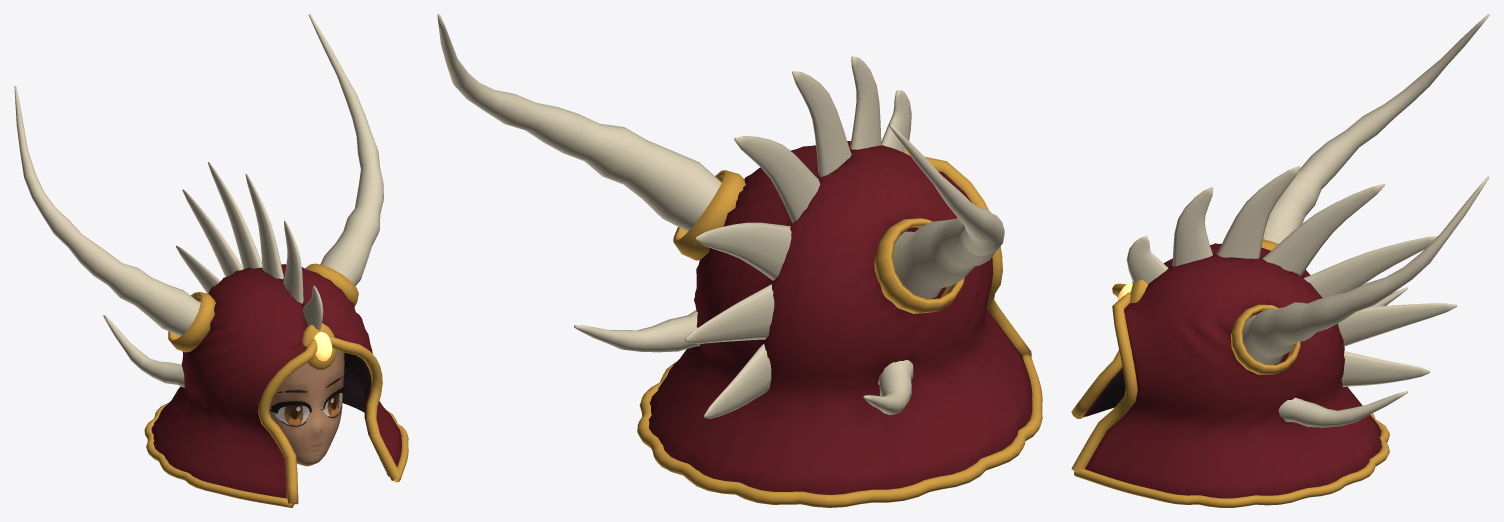
File: h_dragon_f.glb
3 renders of one model, left to right at view 1: azimuth 30°, elevation 25°; view 2: azimuth 150°, elevation 25°; view 3: azimuth 270°, elevation 25°, orthographic. The views are drawn at different scales.
Parts seen in each view (by area): view 1: DragonHelm, HeadMesh; view 2: DragonHelm; view 3: DragonHelm.
Boxes of the visible parts, x1,y1,x2,y2 form: DragonHelm: [14, 14, 408, 507]; HeadMesh: [269, 350, 344, 466]; DragonHelm: [437, 14, 1042, 507]; DragonHelm: [1071, 14, 1489, 507].
Size of the model in its own units: 0.5971 by 0.5357 by 0.5764.
